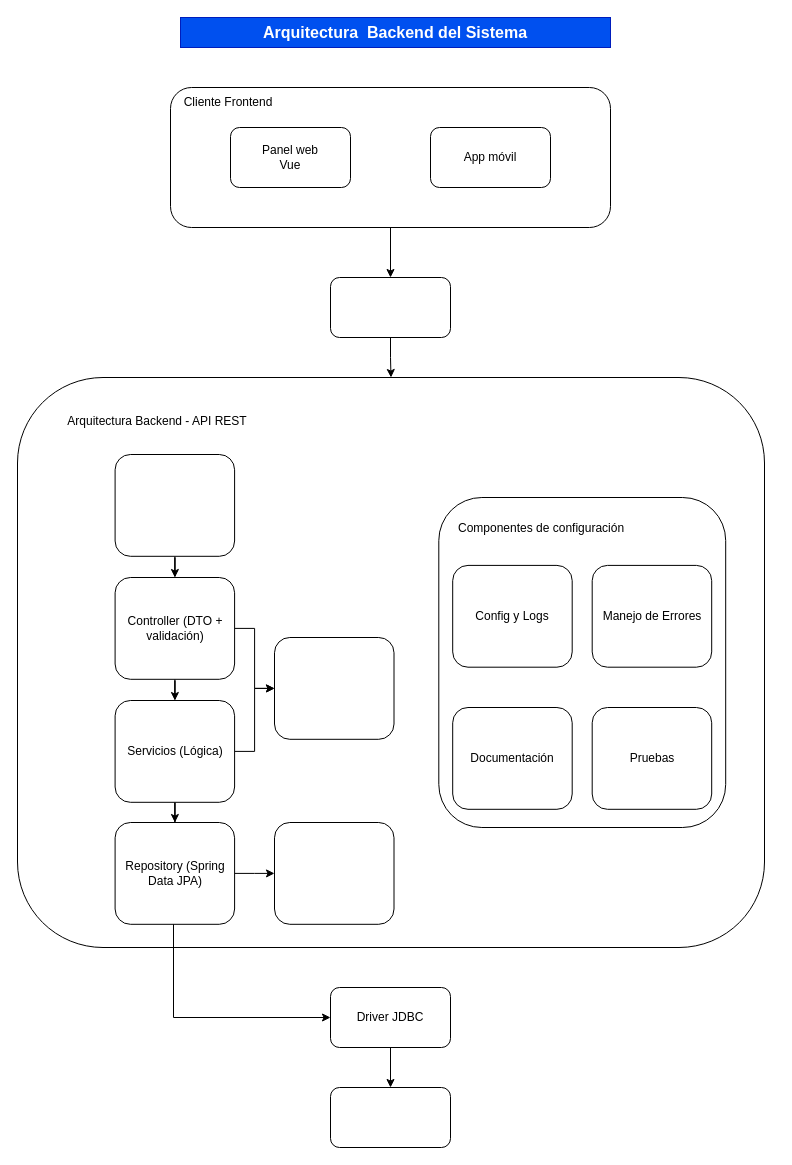
This 792x1165 diagram has some shape labels left out. Here are the shapes that lost their labels. From the top down, the centre of each, then its label:
pixel 390 307: HTTP / JSON
pixel 174 505: Filtros (CORS, JWT/Security)
pixel 334 687: DTOs y Mappers Datos mostrados
pixel 334 873: Entidades JPA Modelo de datos
pixel 390 1117: PostgreSQL Migraciones Flyway
